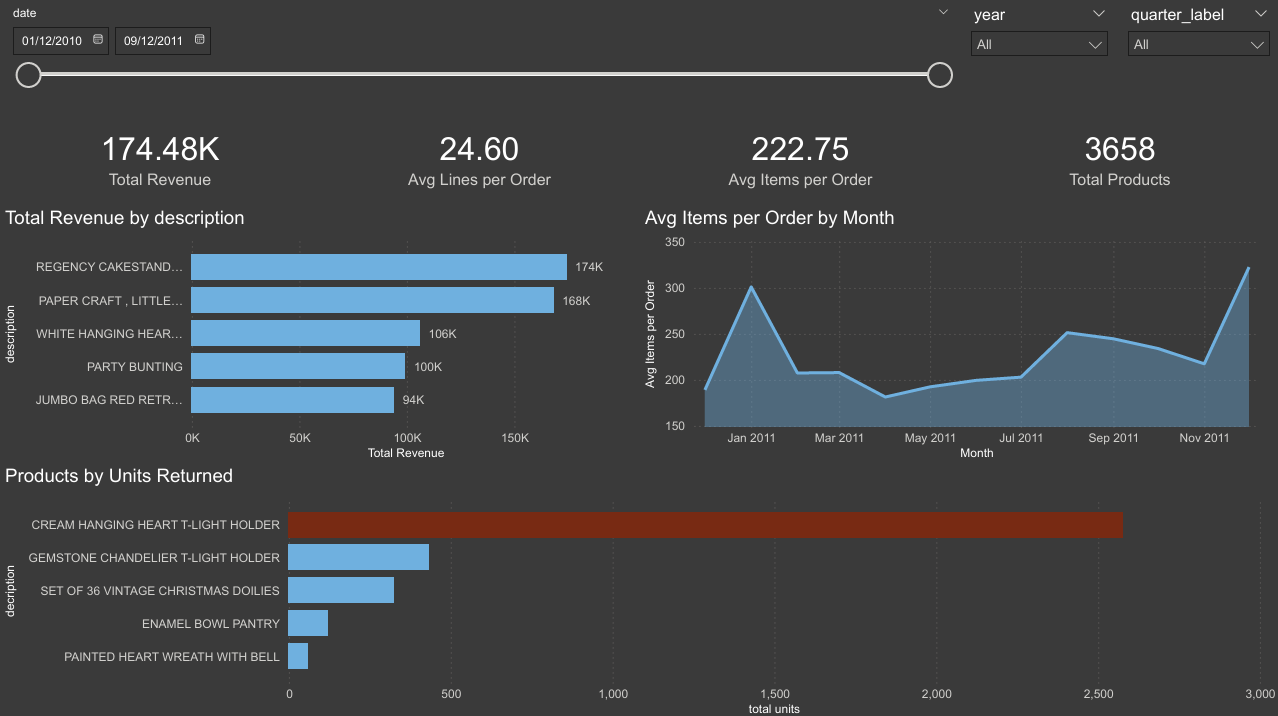

The page's visual inventory and layout, read from the dashboard file:
{"tool":"powerbi","page":{"name":"Product Analysis","canvas":[1280,720],"ordinal":1},"visuals":[{"type":"clusteredBarChart","title":"Total Revenue by description","fields":{"Category":["online_retail vw_dim_product.description"],"Y":["Sum(online_retail vw_fact_orders.revenue)"],"Series":["online_retail vw_dim_product.is_product"]},"box":[0,210.4,640.5,255],"z":0},{"type":"clusteredBarChart","fields":{"Category":["online_retail vw_dim_product.description"],"Y":["online_retail vw_dim_product.Units Returned"]},"box":[0,465.4,1280,253.9],"z":1000},{"type":"slicer","fields":{"Values":["online_retail dim_date.date"]},"box":[0,0,1008.4,114.2],"z":2000},{"type":"slicer","fields":{"Values":["online_retail dim_date.quarter"]},"box":[1008.6,0,137.1,113.8],"z":3000},{"type":"slicer","fields":{"Values":["online_retail dim_date.year"]},"box":[1145.8,0,134.2,113.8],"z":4000},{"type":"card","title":"Avg Lines per Order","fields":{"Values":["online_retail vw_dim_product.Avg Lines per Order"]},"box":[320.3,114,320.3,96.4],"z":5000},{"type":"card","title":"Avg Items per Order","fields":{"Values":["online_retail vw_dim_product.Avg Items per Order"]},"box":[640.5,114,320.3,96.4],"z":6000},{"type":"card","title":"Total Products","fields":{"Values":["online_retail vw_dim_product.Total Products"]},"box":[968,114,312,96.4],"z":7000},{"type":"lineChart","fields":{"Y":["Sum(online_retail vw_fact_orders.quantity)"],"Category":["online_retail dim_date.year_month.Variation.Date Hierarchy.Month"]},"box":[640.1,210.1,640.1,262.1],"z":8000},{"type":"card","title":"Total Revenue","fields":{"Values":["Sum(online_retail vw_fact_orders.revenue)"]},"box":[0,114,320.5,96.1],"z":9000}]}

Visuals, with their boxes in screenshot pixels (x1, y1, x2, y2), scaled from the page's 1280x720 canvas onto the 1278x716 screenshot:
"Total Revenue by description" clusteredBarChart: 0, 209, 639, 463
clusteredBarChart - online_retail vw_dim_product.description x online_retail vw_dim_product.Units Returned: 0, 463, 1277, 715
slicer - online_retail dim_date.date: 0, 0, 1007, 114
slicer - online_retail dim_date.quarter: 1007, 0, 1144, 113
slicer - online_retail dim_date.year: 1144, 0, 1277, 113
"Avg Lines per Order" card: 320, 113, 640, 209
"Avg Items per Order" card: 639, 113, 959, 209
"Total Products" card: 966, 113, 1277, 209
lineChart - Sum(online_retail vw_fact_orders.quantity) x online_retail dim_date.year_month.Variation.Date Hierarchy.Month: 639, 209, 1277, 470
"Total Revenue" card: 0, 113, 320, 209
